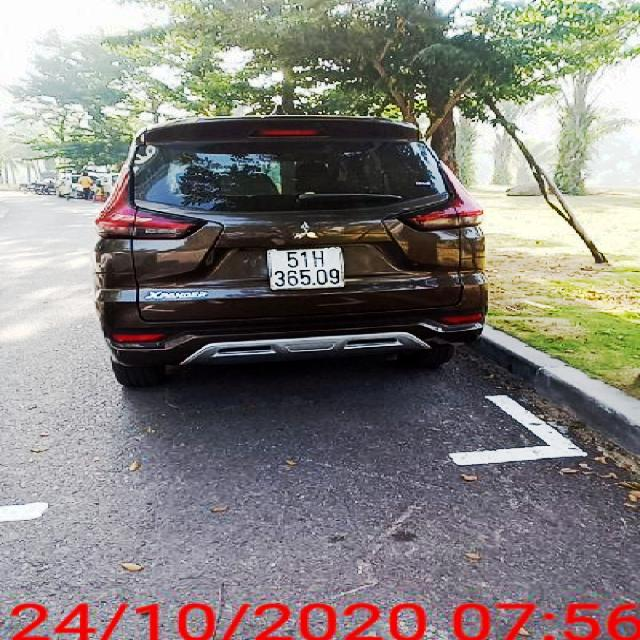license_plate: (269, 250, 347, 290)
